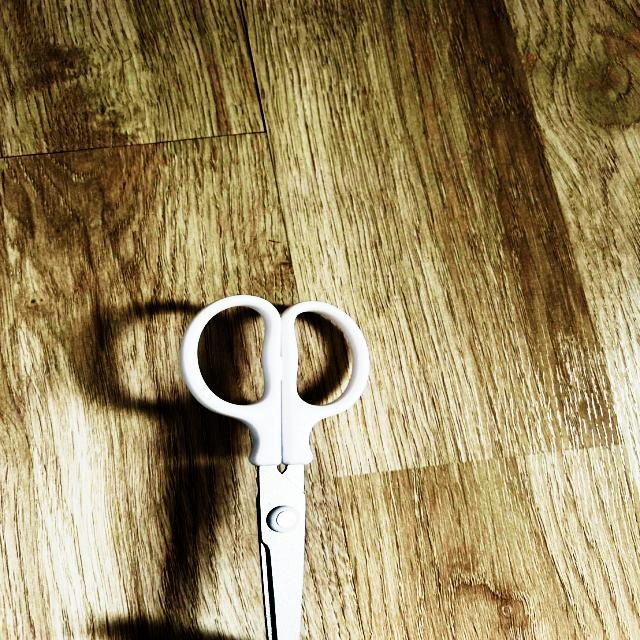Scissors: (181, 296, 369, 640)
